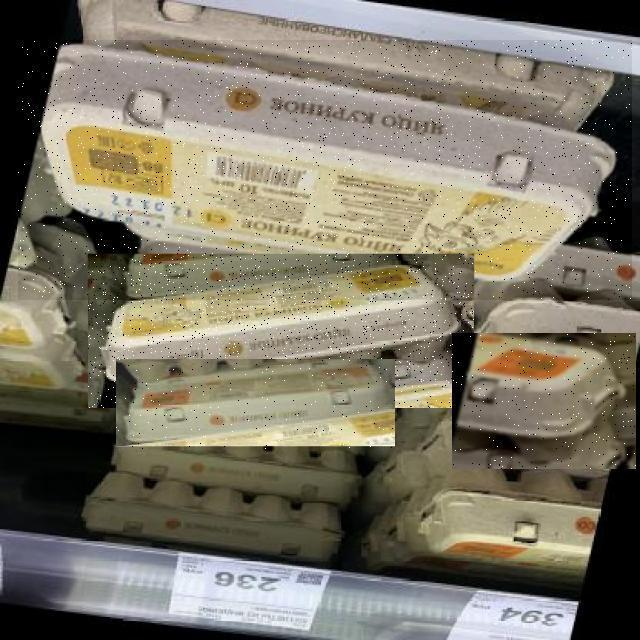Eggs: (19, 40, 633, 300), (88, 254, 474, 408), (116, 360, 395, 450), (452, 333, 636, 469)
